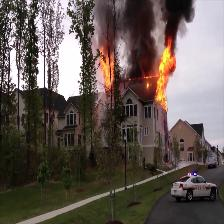fire: (156, 46, 172, 108), (101, 52, 118, 88)
smoke: (97, 5, 153, 50), (163, 2, 190, 44), (127, 52, 150, 76)
